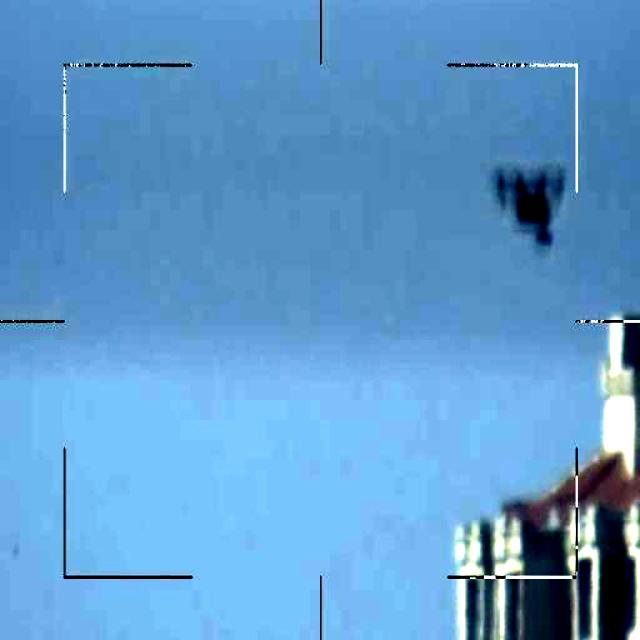bird: (490, 160, 571, 250)
